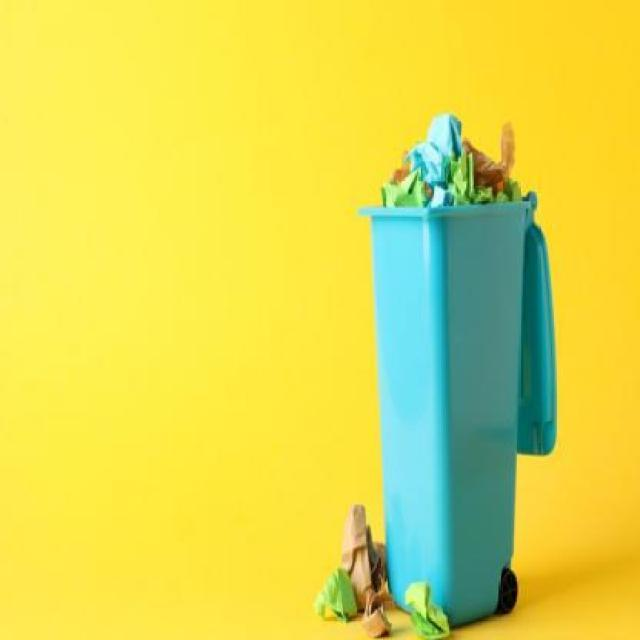garbage container: (347, 184, 564, 640)
